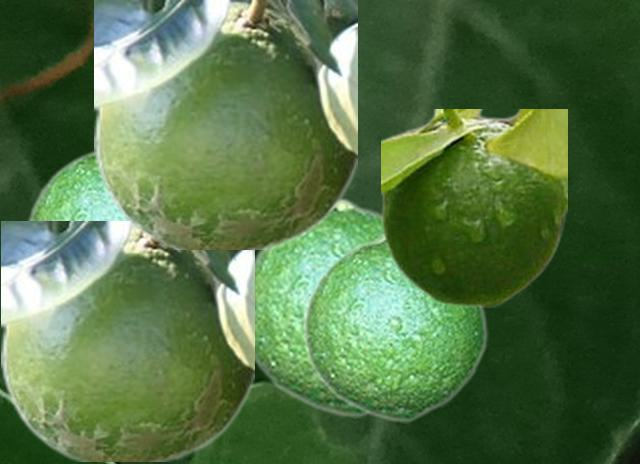dalandan: (94, 0, 356, 248), (1, 221, 253, 460), (381, 109, 566, 306), (301, 232, 487, 422), (254, 197, 381, 417), (24, 146, 124, 220)
